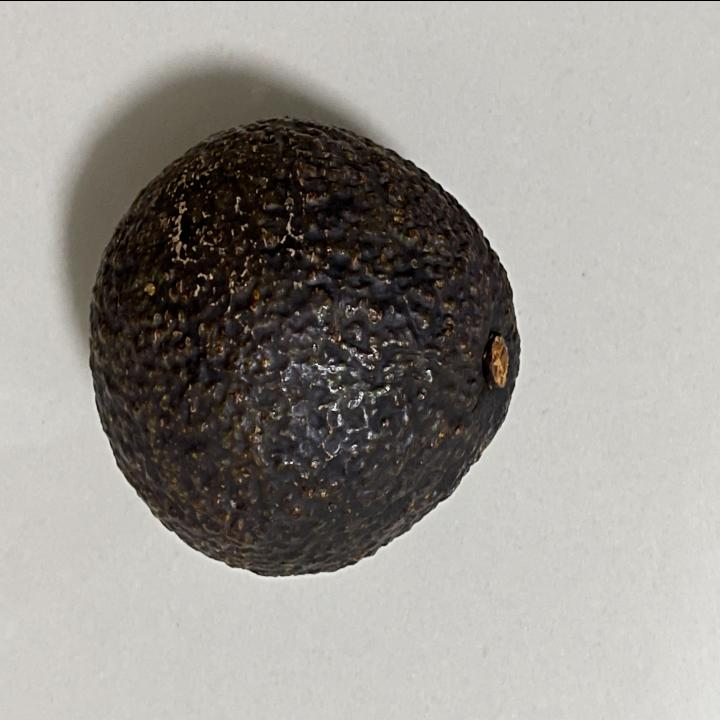Level2: (84, 110, 529, 580)
